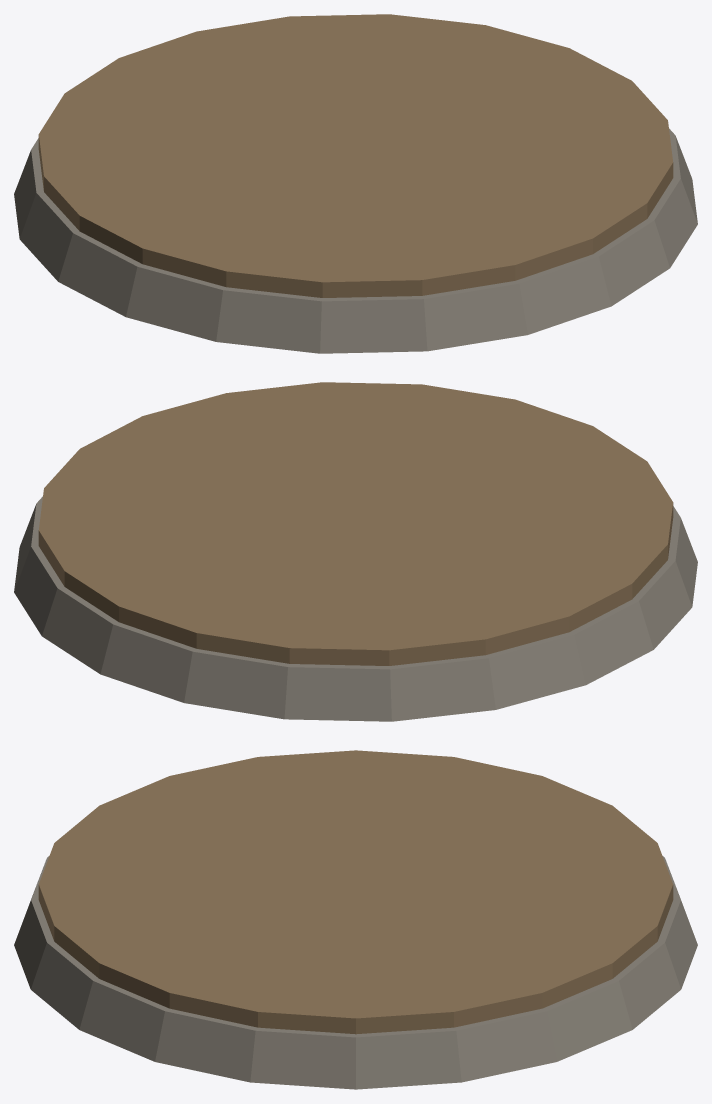
Rendered from Pawn_Base.fbx.
3 views of the same model, one above another, from view 1: azimuth 30°, elevation 25°; view 2: azimuth 150°, elevation 25°; view 3: azimuth 270°, elevation 25° (orthographic).
Visible parts, largest first — view 1: Pawn_Base; view 2: Pawn_Base; view 3: Pawn_Base.
Boxes of the visible parts, <box> form: Pawn_Base: <box>14,14,697,353</box>; Pawn_Base: <box>14,382,697,721</box>; Pawn_Base: <box>14,750,697,1089</box>.
Bounding box in the file's own units: 1.38 × 0.135 × 1.38.
